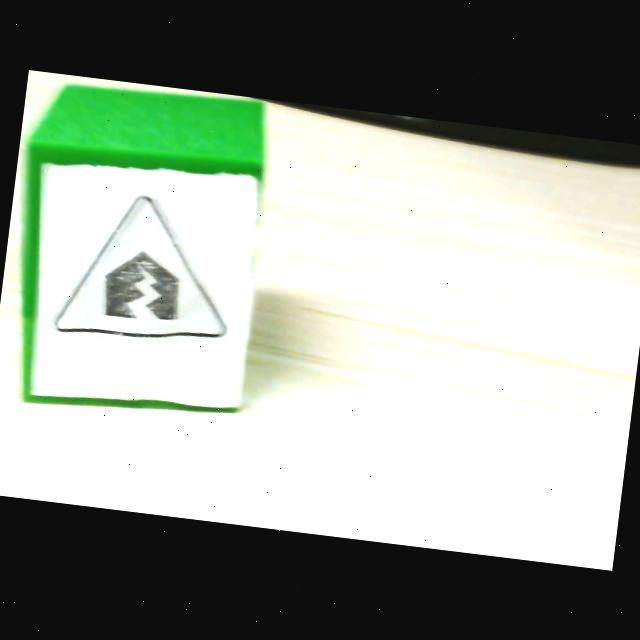Earthquake: (52, 188, 244, 355), (55, 195, 227, 338)
